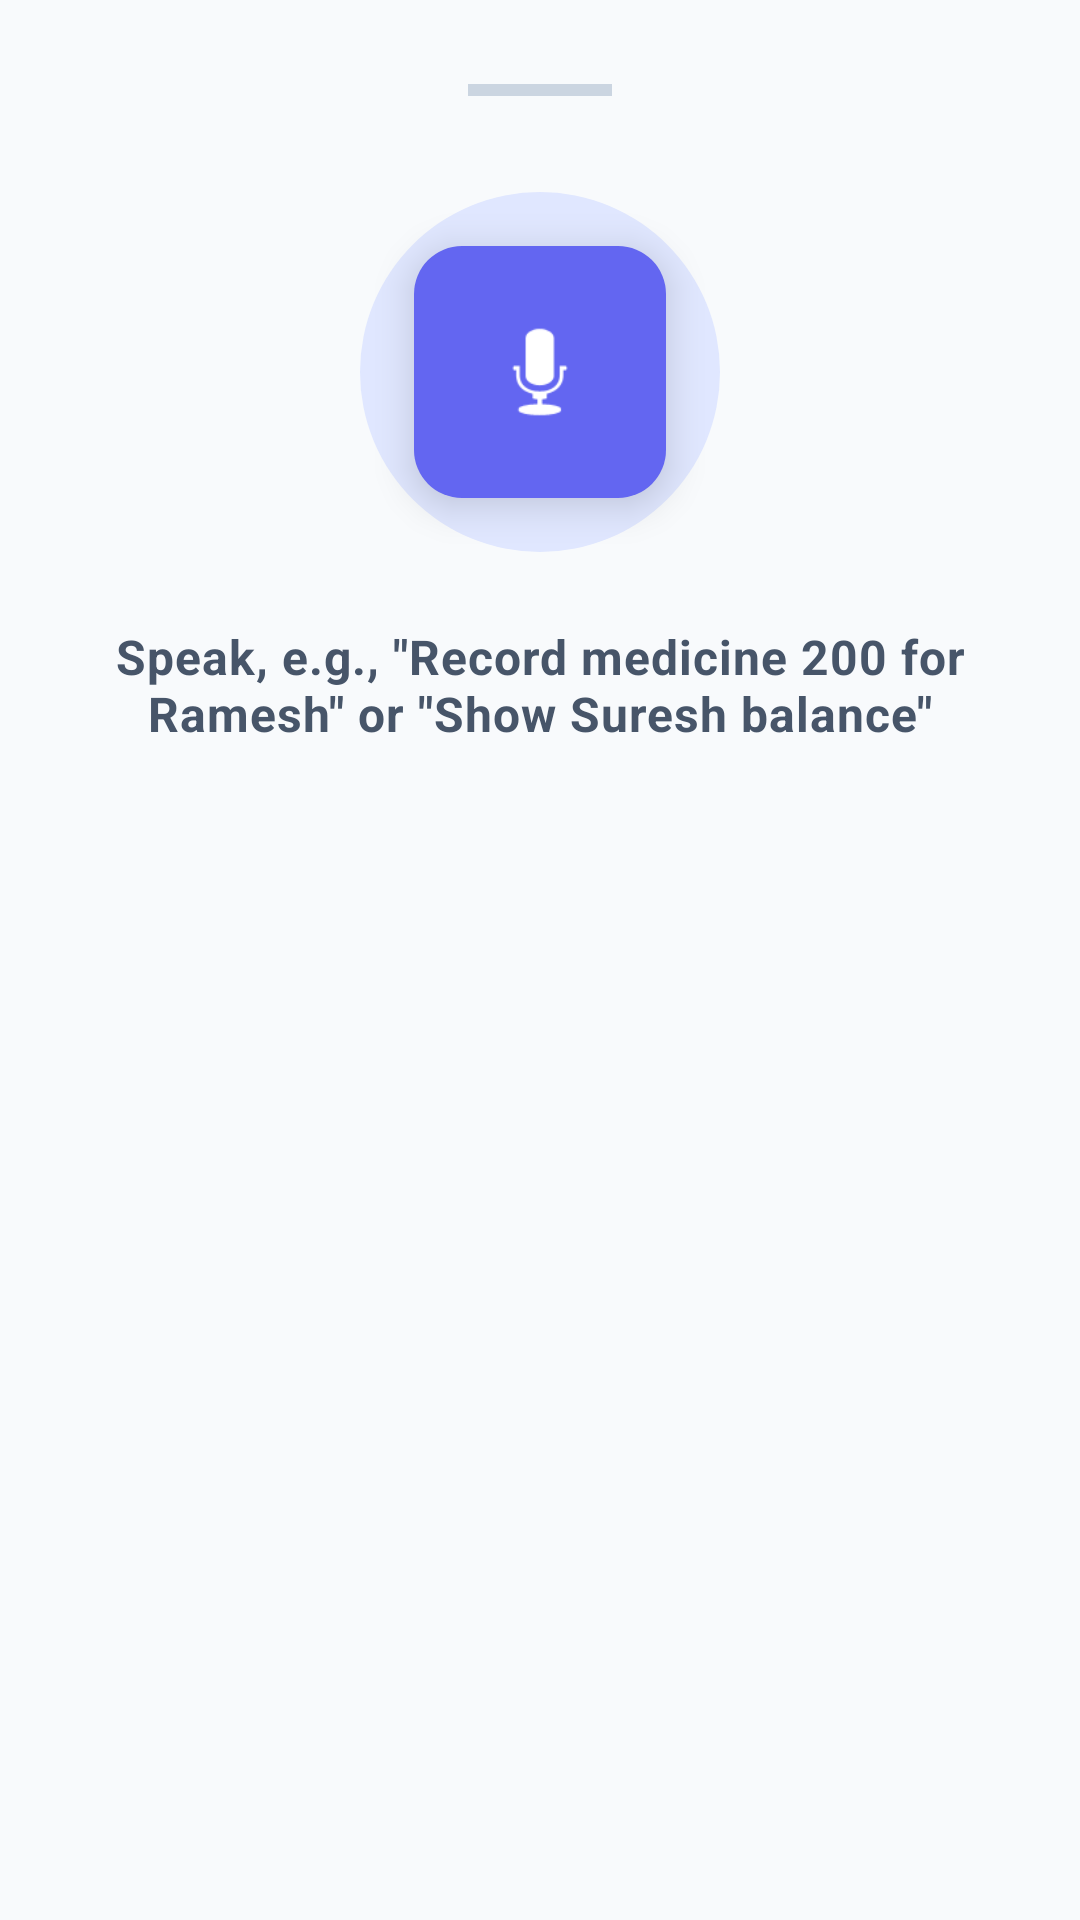

Where to tap for icons on this 1080px x 1920px app screen, as (x,y):
Mic: (540,372)
